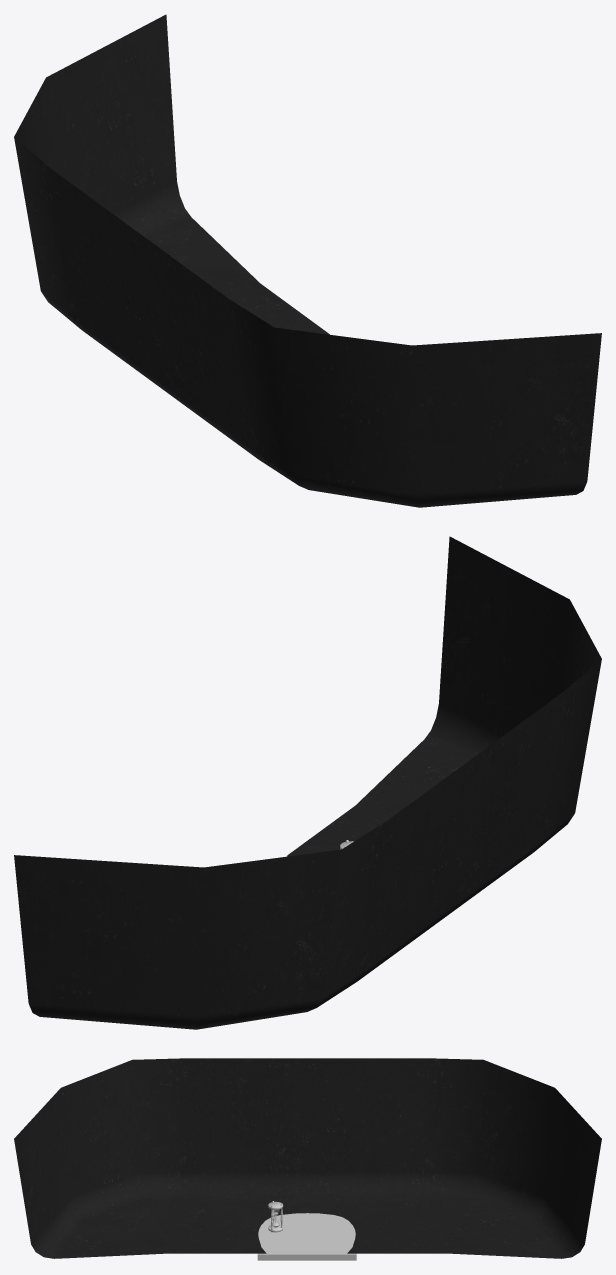
File: table.fbx
3 renders of one model, top to bottom at view 1: azimuth 30°, elevation 25°; view 2: azimuth 150°, elevation 25°; view 3: azimuth 270°, elevation 25°, orthographic. The views are drawn at different scales.
Parts seen in each view (by area): view 1: pPlane3; view 2: pPlane3; view 3: pPlane3, pCube1, SandTimer_LP.
Part boxes in pixels (left/top/right/bottom): pPlane3: left=14, top=14, right=601, bottom=507; pPlane3: left=14, top=536, right=601, bottom=1029; pPlane3: left=14, top=1058, right=601, bottom=1258; pCube1: left=257, top=1213, right=356, bottom=1260; SandTimer_LP: left=268, top=1201, right=283, bottom=1232.
Bounding box in the file's own units: 298 × 222 × 918.
